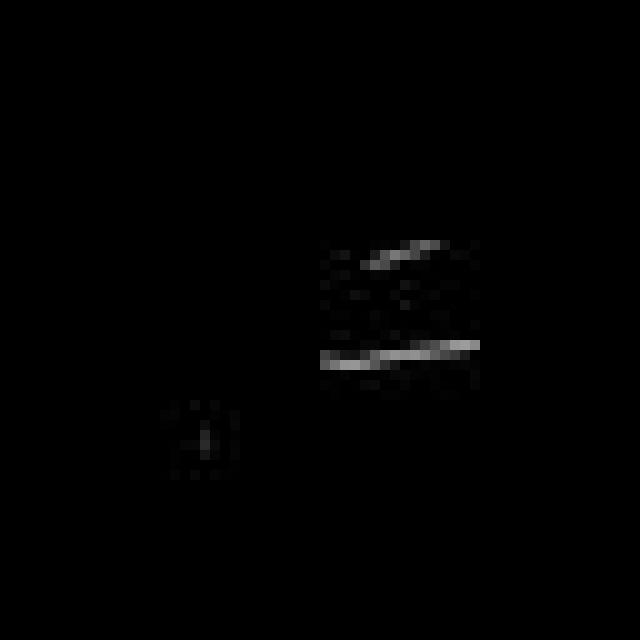2 -two-: (308, 232, 499, 384)
